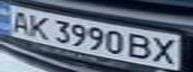0: (103, 28, 130, 56)
3: (48, 17, 72, 45)
9: (84, 25, 106, 52), (66, 20, 87, 48)
A: (3, 8, 33, 35)
B: (124, 30, 157, 61)
K: (24, 12, 54, 41)
X: (148, 35, 184, 66)
